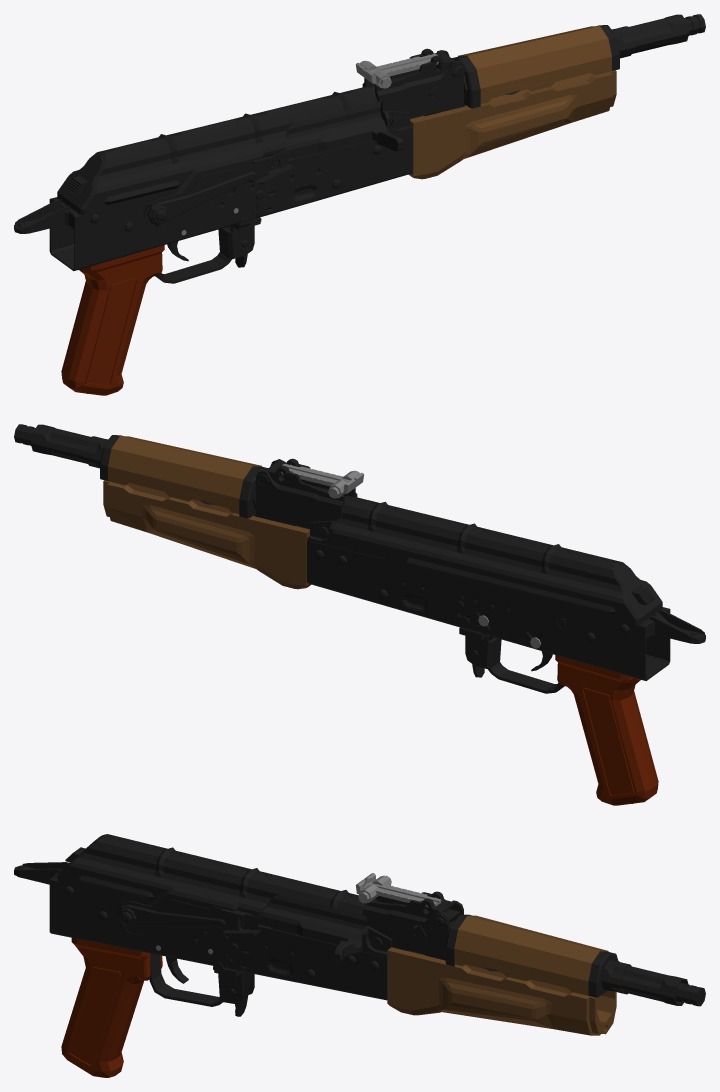
3 renders of one model, top to bottom at view 1: azimuth 30°, elevation 25°; view 2: azimuth 150°, elevation 25°; view 3: azimuth 330°, elevation 25°, orthographic.
Parts seen in each view (by area): view 1: ak74 receiver_15 (×2), ak74 handguard_5, ak74 dust cover_6, ak74 grip_3, ak74 bolt_7, ak74 selector_2; view 2: ak74 receiver_15 (×2), ak74 dust cover_6, ak74 handguard_5, ak74 grip_3; view 3: ak74 receiver_15 (×2), ak74 handguard_5, ak74 dust cover_6, ak74 grip_3, ak74 bolt_7, ak74 selector_2, ak74 mag release_4.
Boxes of the visible parts, left/top/right/bottom form: ak74 receiver_15 (×2): left=14, top=14, right=689, bottom=283; ak74 handguard_5: left=408, top=26, right=616, bottom=179; ak74 dust cover_6: left=57, top=86, right=377, bottom=215; ak74 grip_3: left=61, top=245, right=164, bottom=395; ak74 bolt_7: left=263, top=14, right=705, bottom=158; ak74 selector_2: left=143, top=151, right=292, bottom=227; ak74 receiver_15 (×2): left=30, top=424, right=705, bottom=693; ak74 dust cover_6: left=332, top=496, right=662, bottom=625; ak74 handguard_5: left=103, top=436, right=311, bottom=589; ak74 grip_3: left=555, top=655, right=658, bottom=805; ak74 receiver_15 (×2): left=14, top=847, right=688, bottom=1006; ak74 handguard_5: left=387, top=915, right=616, bottom=1035; ak74 dust cover_6: left=57, top=834, right=378, bottom=915; ak74 grip_3: left=61, top=938, right=162, bottom=1077; ak74 bolt_7: left=241, top=895, right=705, bottom=1006; ak74 selector_2: left=117, top=896, right=260, bottom=935; ak74 mag release_4: left=229, top=972, right=251, bottom=1016.
Size of the model in its own units: 5.26 by 1.91 by 0.6313.
